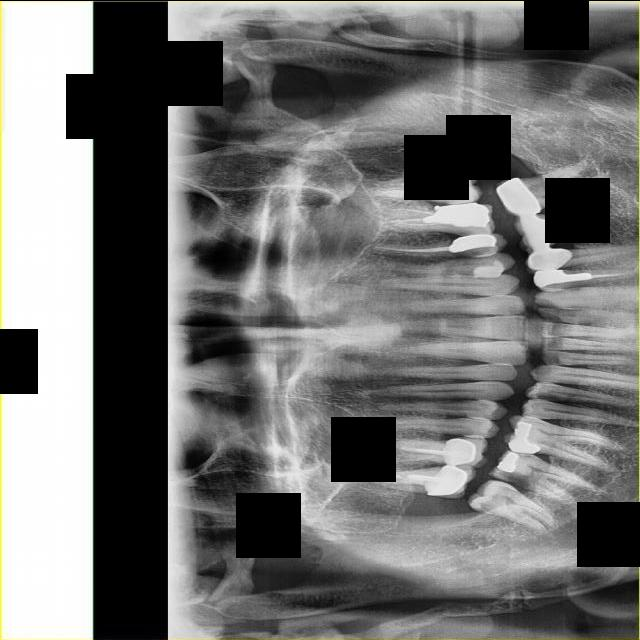71: (413, 448, 465, 457), (404, 472, 446, 483)
74: (368, 471, 427, 486), (389, 453, 438, 465), (371, 245, 449, 252), (390, 206, 435, 215), (590, 271, 633, 278), (385, 217, 422, 223), (398, 221, 441, 225), (396, 445, 420, 452)
NucleOSS Implant: (420, 201, 492, 229), (533, 263, 591, 287), (508, 420, 545, 455), (448, 229, 498, 253), (495, 449, 524, 477)
Sterngold Implant: (490, 463, 538, 491), (484, 488, 504, 505), (529, 391, 564, 400), (472, 500, 494, 514), (464, 249, 483, 258), (453, 229, 473, 235)
Straumann Implant: (471, 257, 506, 285)
Zimmer Implant: (491, 169, 543, 226), (512, 206, 573, 253), (422, 461, 478, 501), (524, 242, 576, 276), (442, 433, 490, 469)
